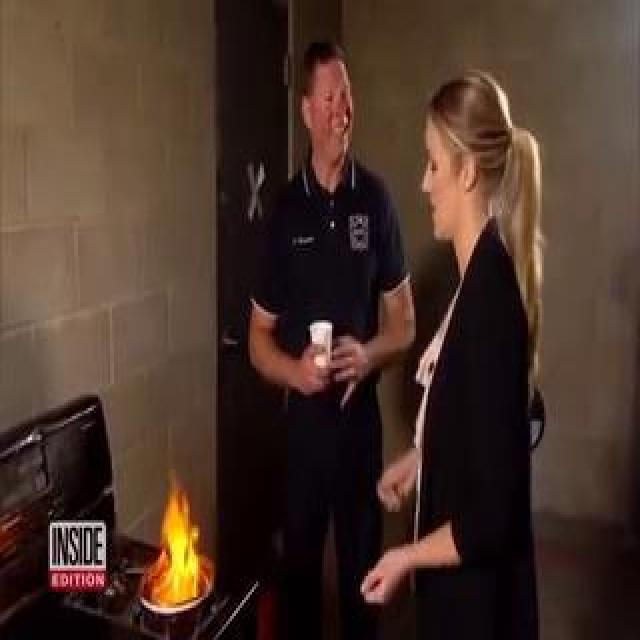Fire: (72, 118, 172, 562)
